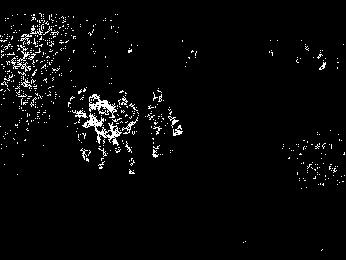person: (148, 89, 184, 159), (88, 93, 118, 165), (117, 90, 137, 173)
